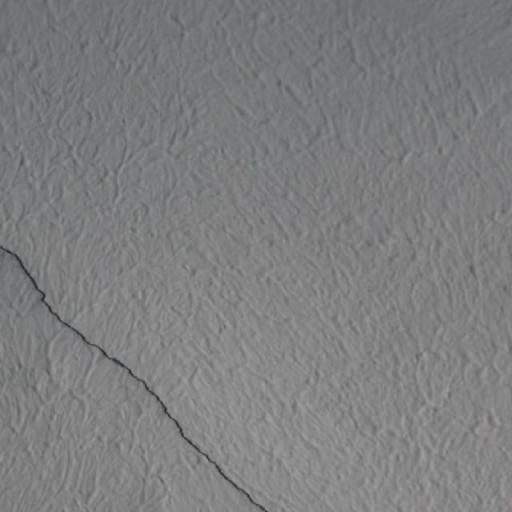severe crack: (0, 229, 269, 512)
